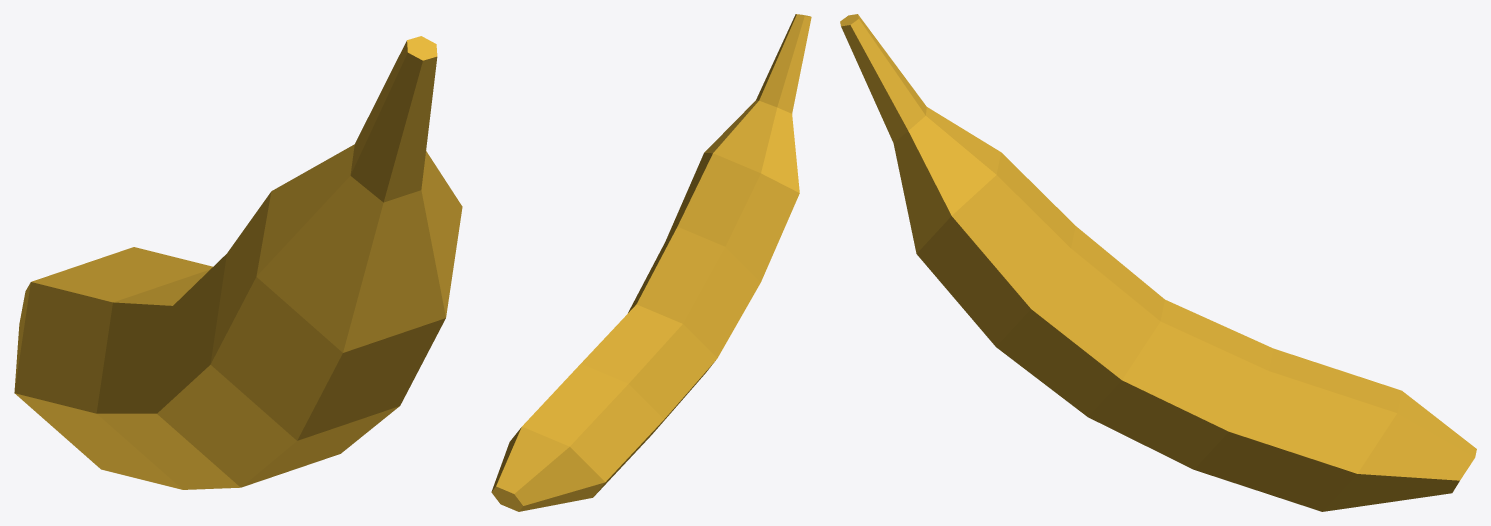
File: platano.fbx
The picture shows the model from 3 angles, left to right: view 1: azimuth 30°, elevation 25°; view 2: azimuth 150°, elevation 25°; view 3: azimuth 270°, elevation 25°; orthographic projection. The views are drawn at different scales.
Parts seen in each view (by area): view 1: Cylinder; view 2: Cylinder; view 3: Cylinder.
Part boxes in pixels (box(x1,y1,x2,y2)): Cylinder: box(14, 36, 462, 489); Cylinder: box(491, 14, 811, 511); Cylinder: box(840, 14, 1476, 511).
Bounding box in the file's own units: 5.42 × 13.52 × 17.08.
